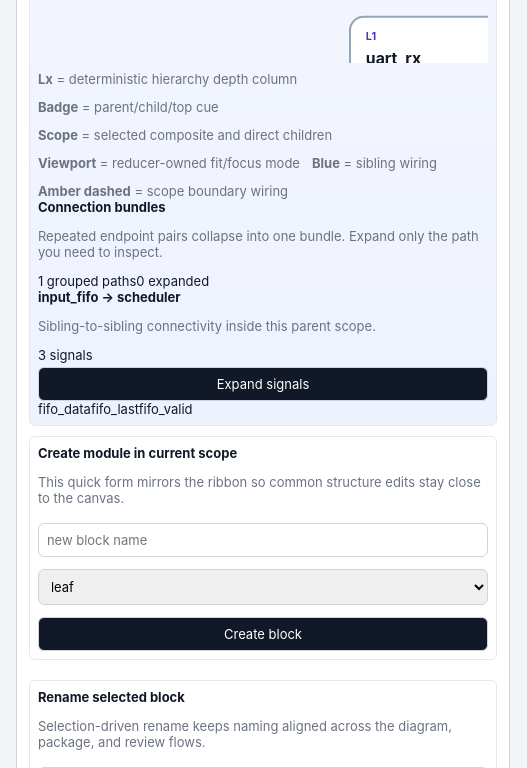
DiagramWorkspace › collapses repeated endpoint pairs into an inspectable edge bundle
(page scrolled)
Expected: the text "Sibling-to-sibling connectivity inside this parent scope." is shown, left=38, top=318, right=376, bottom=334
Click the button "Expand signals" at (263, 384), box left=38, top=367, right=488, bottom=401
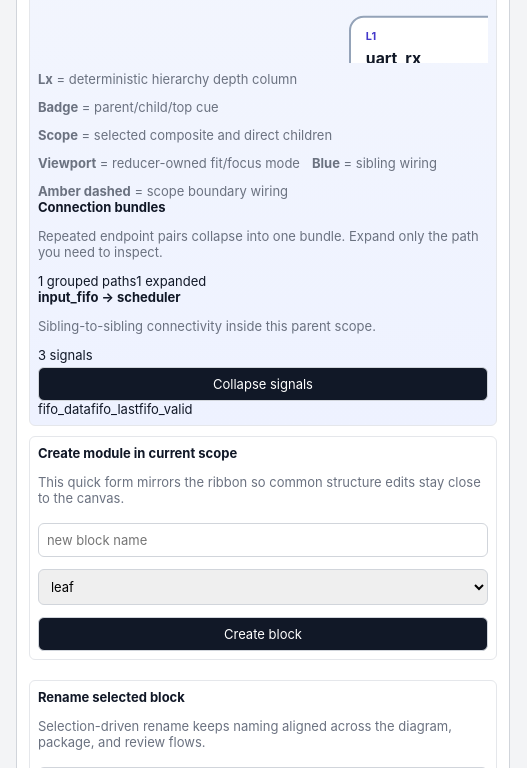
Result: the button "Collapse signals" is shown at left=38, top=367, right=488, bottom=401
